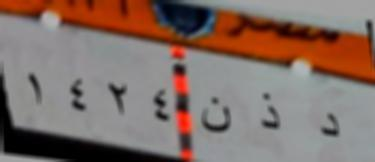1: (23, 68, 49, 110)
2: (106, 76, 129, 120)
4: (65, 72, 92, 118), (148, 81, 173, 127)
daal: (312, 106, 343, 148)
noon: (194, 88, 233, 136)
zaal: (252, 89, 284, 137)
